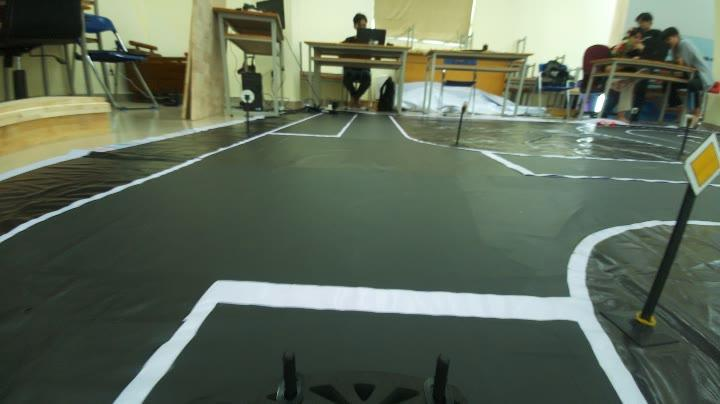priority: (685, 132, 720, 198)
